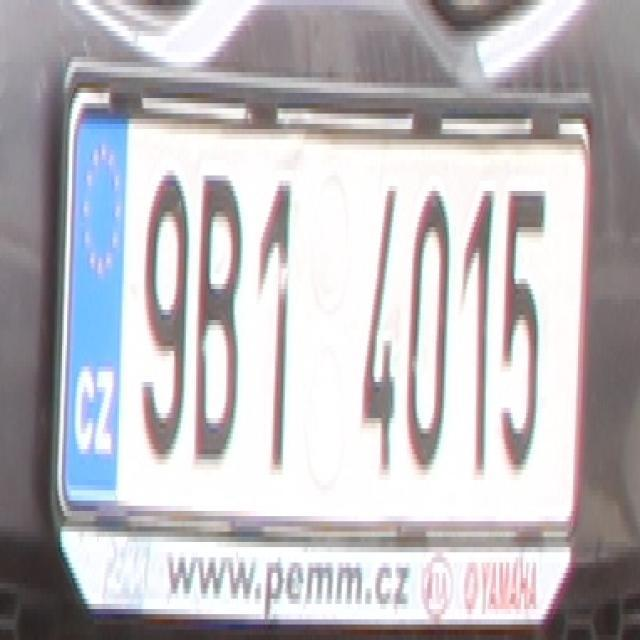1: (404, 180, 451, 474), (256, 160, 295, 475), (461, 175, 491, 480)
4: (358, 175, 401, 480)
5: (500, 175, 540, 480)
9: (141, 160, 186, 460)
B: (188, 160, 242, 475)
